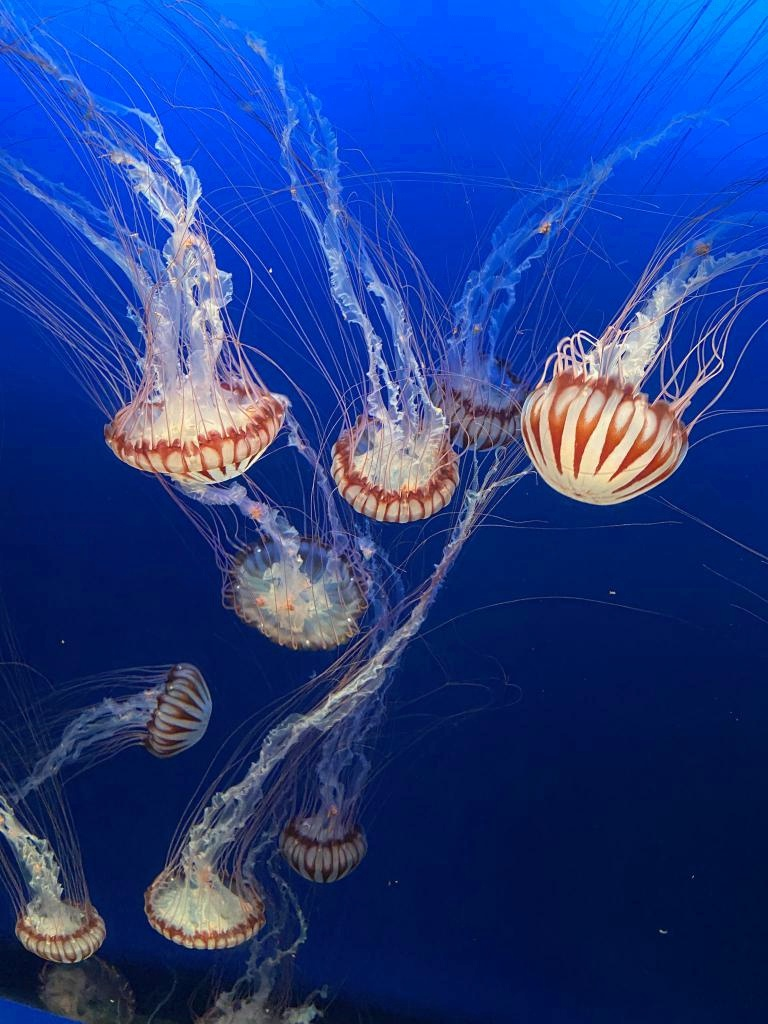jellyfish: (520, 377, 688, 505), (95, 390, 287, 484), (230, 549, 368, 645), (141, 858, 266, 950), (338, 430, 457, 518), (434, 362, 522, 444), (143, 658, 213, 758), (282, 812, 374, 882), (38, 961, 140, 1021), (17, 898, 110, 960)
